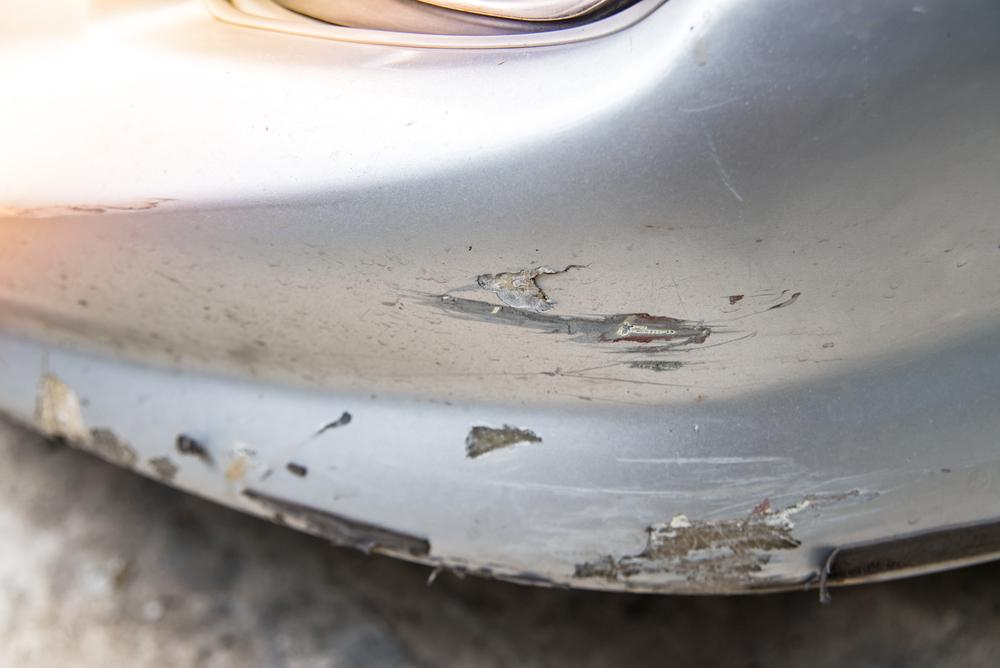scratch: (30, 245, 913, 596)
